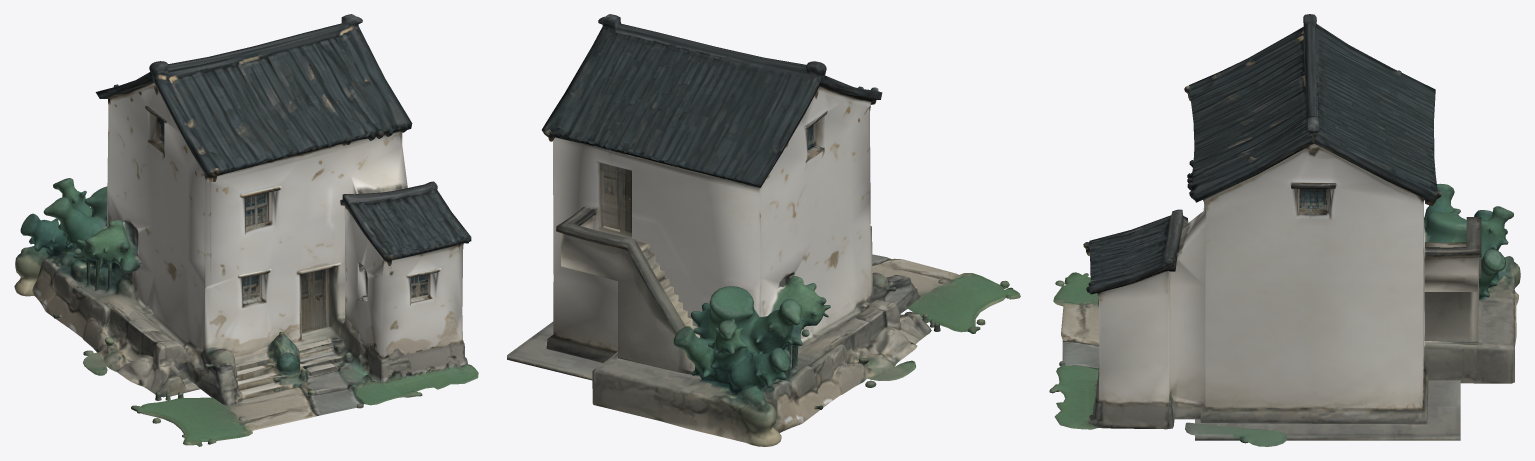
Rendered from house3.glb.
3 renders of one model, left to right at view 1: azimuth 30°, elevation 25°; view 2: azimuth 150°, elevation 25°; view 3: azimuth 270°, elevation 25°, orthographic. The views are drawn at different scales.
Parts seen in each view (by area): view 1: tripo_node_dd998da1-ee61-4a3f-a73d-34fce38c8412; view 2: tripo_node_dd998da1-ee61-4a3f-a73d-34fce38c8412; view 3: tripo_node_dd998da1-ee61-4a3f-a73d-34fce38c8412.
Part boxes in pixels (<box>): tripo_node_dd998da1-ee61-4a3f-a73d-34fce38c8412: <box>14,14,478,446</box>; tripo_node_dd998da1-ee61-4a3f-a73d-34fce38c8412: <box>507,14,1020,446</box>; tripo_node_dd998da1-ee61-4a3f-a73d-34fce38c8412: <box>1049,14,1520,446</box>.
Size of the model in its own units: 0.8833 by 0.8374 by 0.9995.
Materials: 1 (1 with a texture image).
